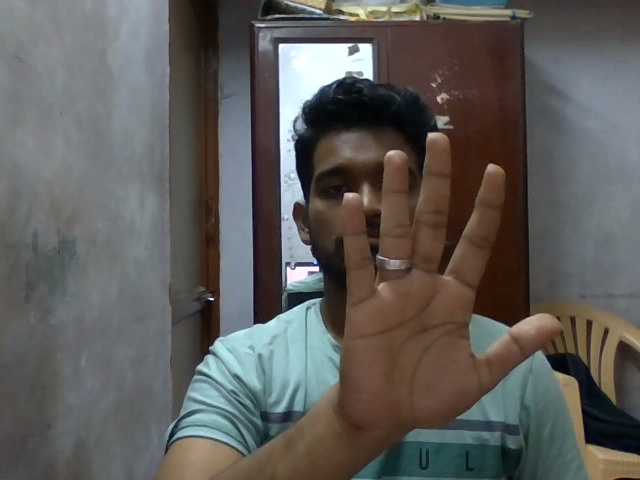Hello: (334, 129, 563, 444)
